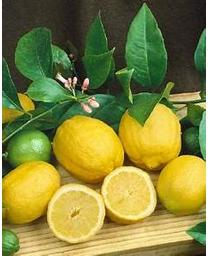lemon: (55, 116, 124, 182), (119, 105, 181, 170), (2, 159, 60, 223), (49, 184, 105, 246), (101, 166, 158, 221), (157, 156, 206, 215), (7, 129, 51, 166)
